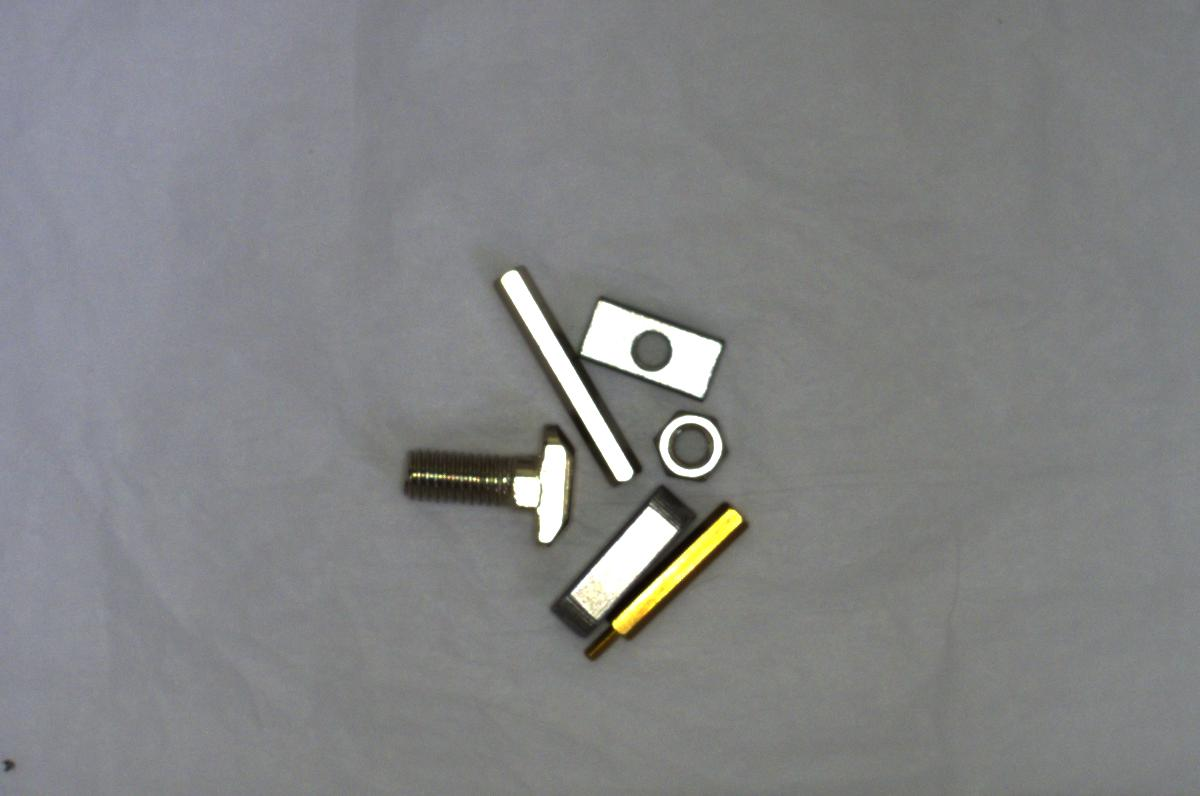Double hexagonal column: (492, 250, 641, 493)
Hexagon nut: (647, 401, 734, 485)
Hexagon pillar: (572, 499, 766, 662)
Keybar: (555, 487, 691, 636)
Rectangular nut: (570, 294, 726, 399)
T-shaped screw: (362, 415, 581, 546)
